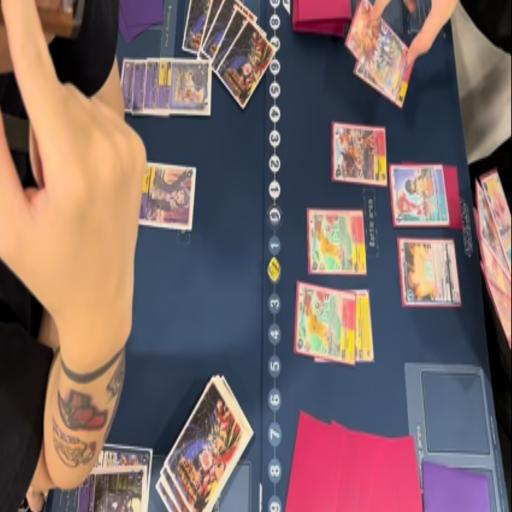card: (350, 1, 410, 101), (132, 164, 204, 232), (292, 288, 358, 360), (398, 236, 462, 308), (389, 161, 449, 230), (305, 210, 367, 275), (328, 121, 388, 188), (74, 463, 148, 512), (156, 61, 212, 117), (93, 444, 155, 490), (357, 286, 379, 371), (117, 56, 138, 113), (144, 52, 160, 114), (132, 56, 147, 116)
